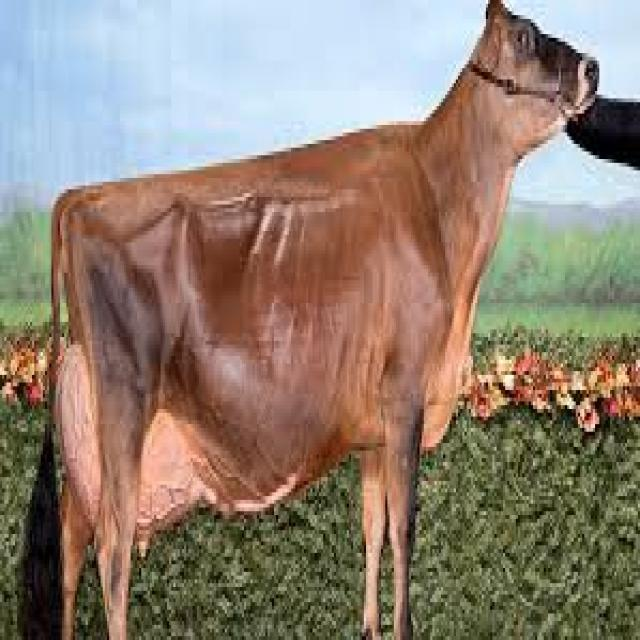cow: (71, 129, 490, 563)
